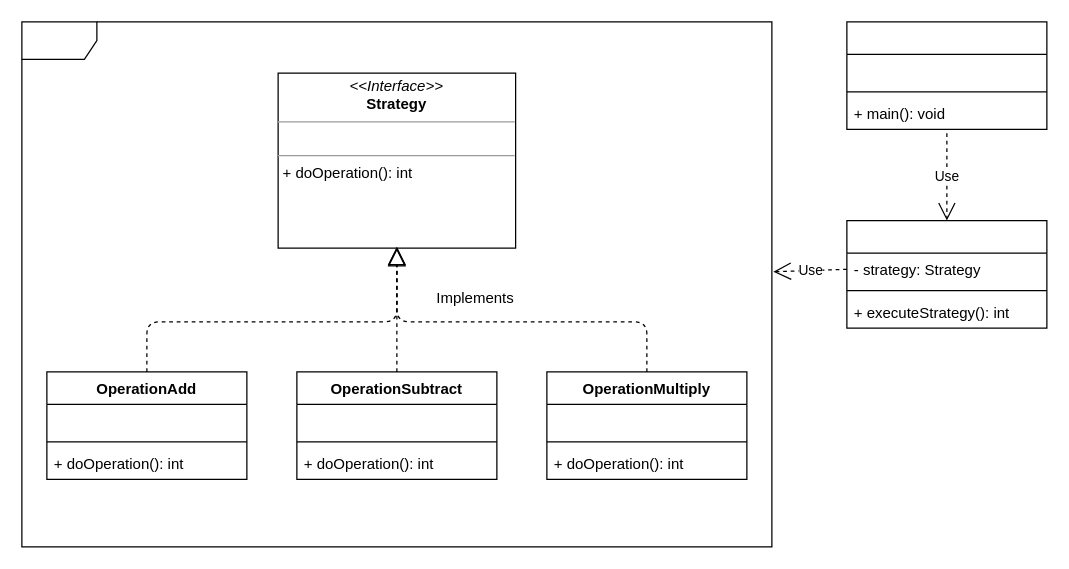
Some shapes in this 1069 by 569 pixel diagram are drawn without their labels. Here are the shapes that lost their labels. From the top down, the box of each, then its label:
(846, 21, 1047, 129): Client
(846, 219, 1047, 328): Context
